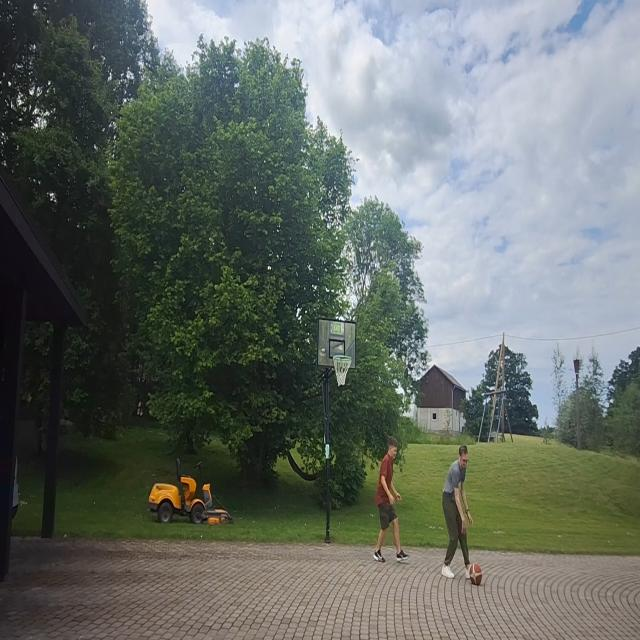ball: (470, 561, 482, 587)
basket: (333, 351, 353, 389)
player: (373, 434, 412, 565), (441, 442, 474, 584)
